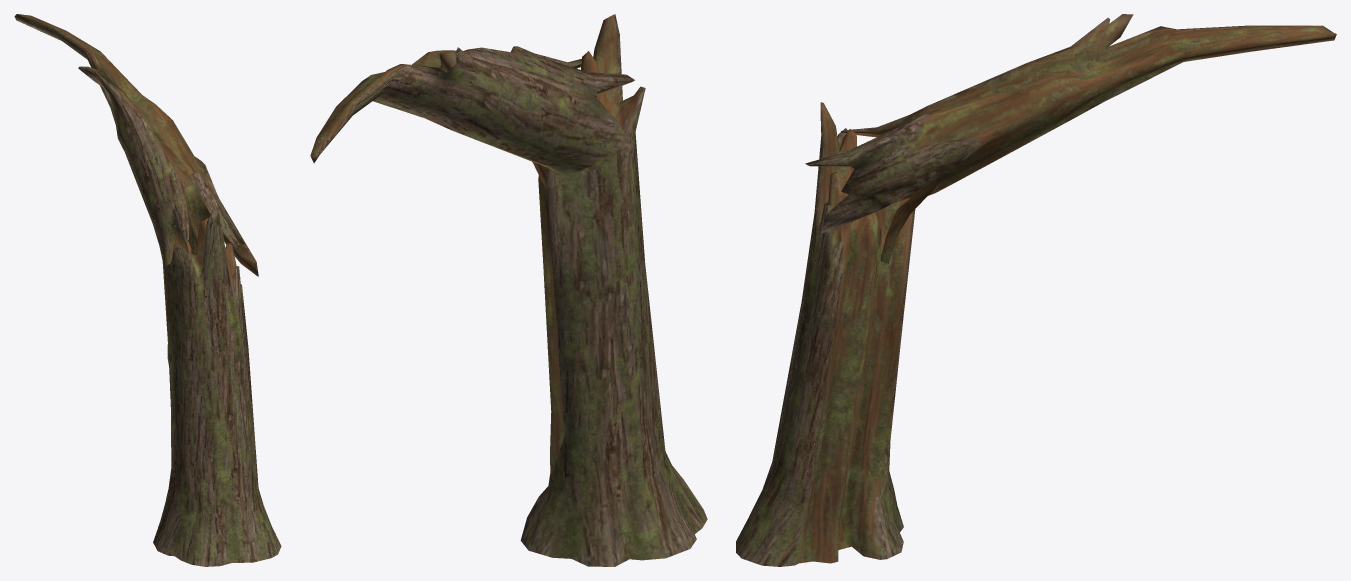
Rendered from TreeBroken6.fbx.
The picture shows the model from 3 angles, left to right: view 1: azimuth 30°, elevation 25°; view 2: azimuth 150°, elevation 25°; view 3: azimuth 270°, elevation 25°; orthographic projection. The views are drawn at different scales.
Visible parts, largest first — view 1: SM_cmn_mount_BrokenTree_04a; view 2: SM_cmn_mount_BrokenTree_04a; view 3: SM_cmn_mount_BrokenTree_04a.
Part boxes in pixels (x1,y1,x2,y2): SM_cmn_mount_BrokenTree_04a: [14, 14, 281, 566]; SM_cmn_mount_BrokenTree_04a: [310, 14, 707, 566]; SM_cmn_mount_BrokenTree_04a: [736, 14, 1336, 566].
Bounding box in the file's own units: 149 × 555 × 586.
